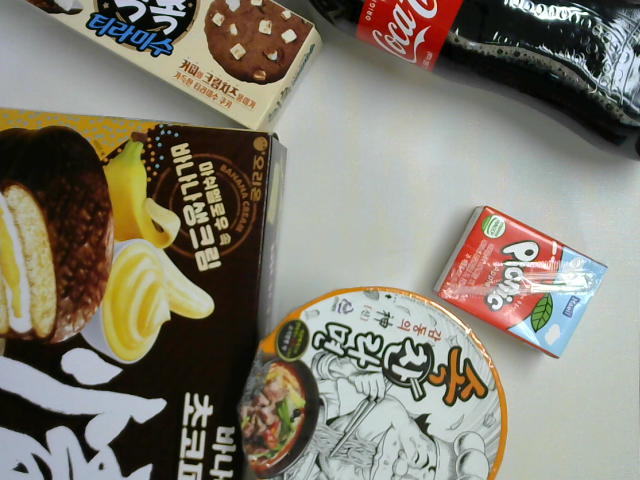Chicchok_Tiramisu: (7, 1, 325, 137)
Choco_Pie_Banana: (1, 107, 293, 479)
Coca_Cola_1.5L: (307, 2, 640, 167)
Hejangchan: (234, 283, 510, 480)
Picnic_Apple: (433, 202, 610, 364)
